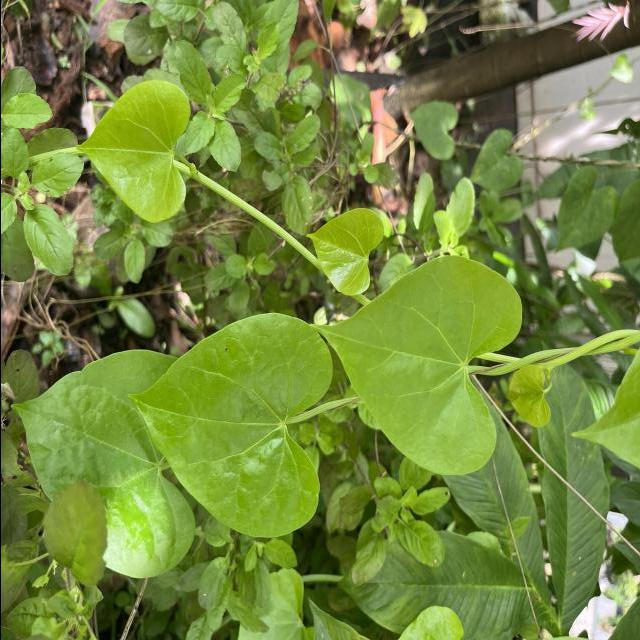Tinospora cordifolia: (307, 253, 526, 480), (124, 308, 336, 542), (5, 347, 198, 582), (73, 74, 193, 226)
